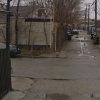Tree: (56, 0, 90, 55)
